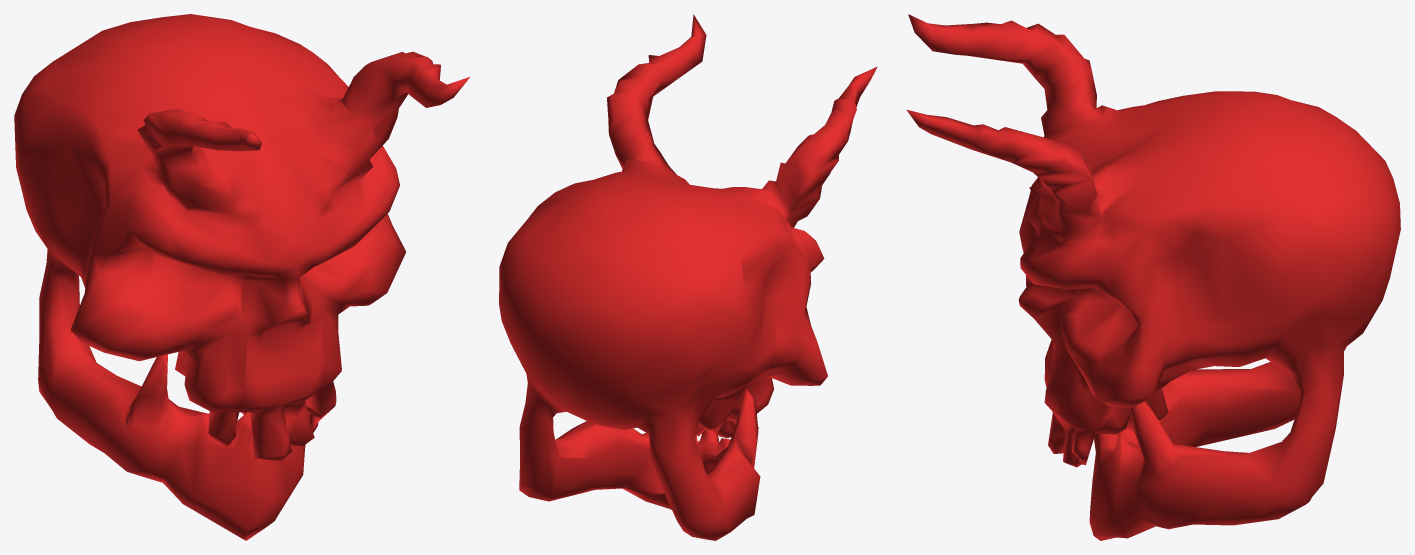
File: SM_SmallOrnament_A_006.FBX
3 views of the same model, side by side, from view 1: azimuth 30°, elevation 25°; view 2: azimuth 150°, elevation 25°; view 3: azimuth 270°, elevation 25° (orthographic). The views are drawn at different scales.
Visible parts, largest first — view 1: SM_SmallOrnament_A_006; view 2: SM_SmallOrnament_A_006; view 3: SM_SmallOrnament_A_006.
Boxes of the visible parts, left/top/right/bottom form: SM_SmallOrnament_A_006: left=14, top=14, right=470, bottom=540; SM_SmallOrnament_A_006: left=499, top=14, right=877, bottom=540; SM_SmallOrnament_A_006: left=906, top=14, right=1400, bottom=540.
Bounding box in the file's own units: 129 × 187 × 172.
